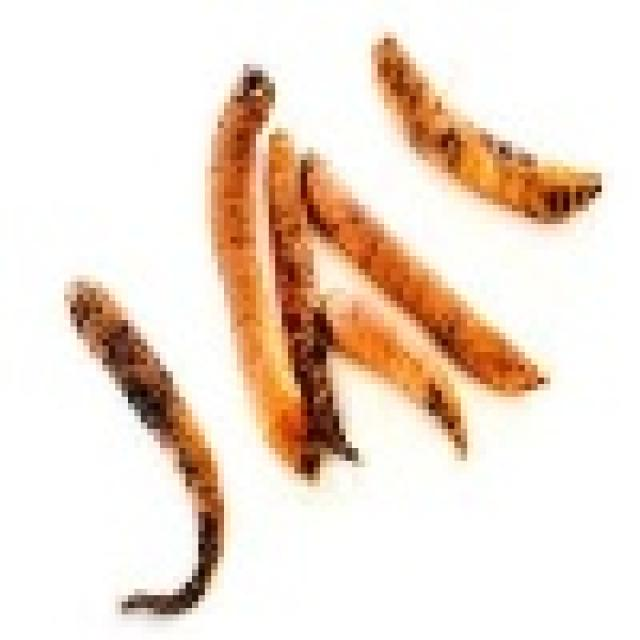Stale_Carrot: (313, 100, 506, 488), (38, 256, 224, 640), (320, 0, 613, 232), (204, 58, 347, 515)
